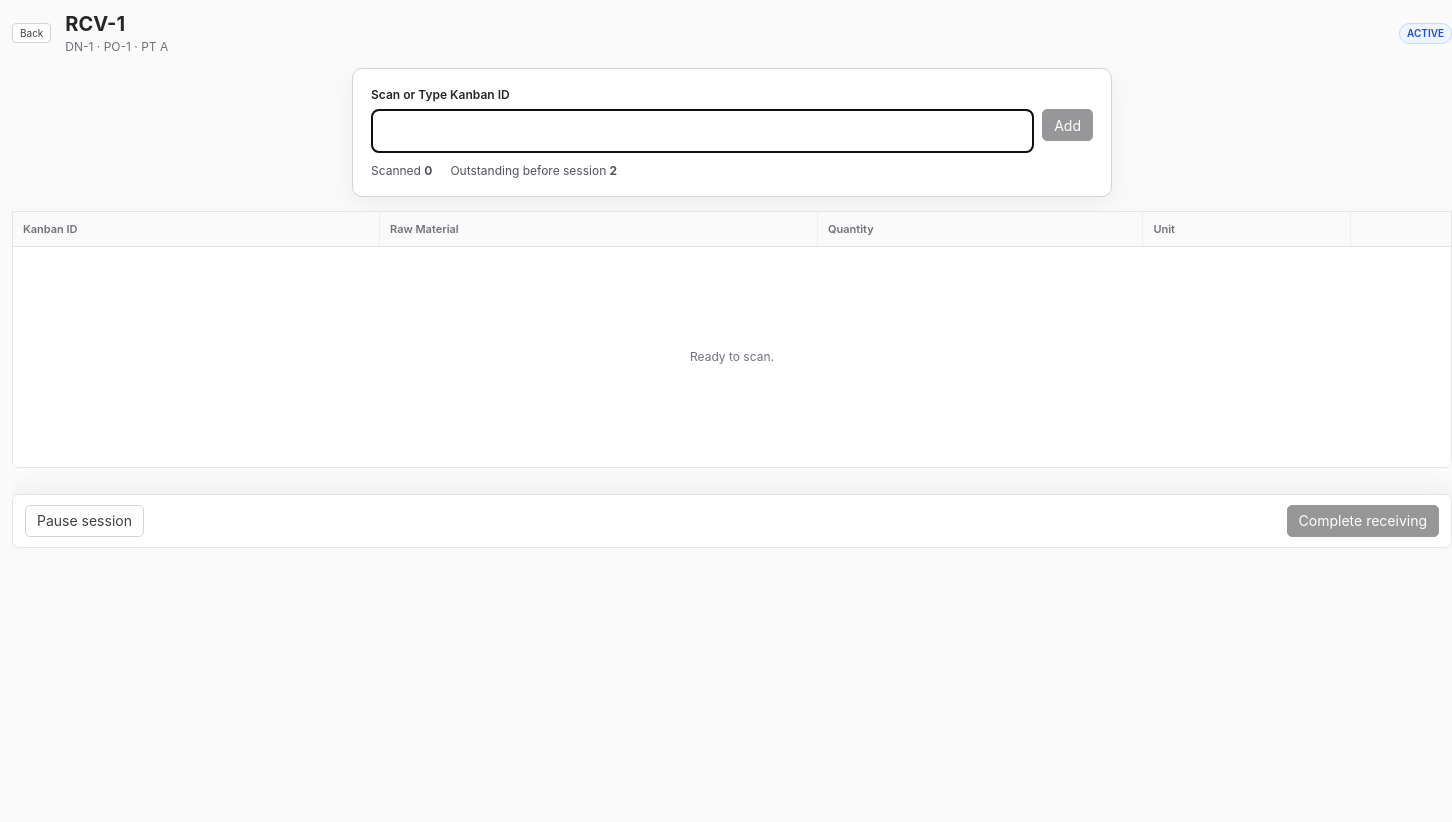
Test case: shows explicit scanner feedback for KANBAN_ALREADY_SCANNED and preserves the scanned value
Type "KB-1" into the field named "Scan or Type Kanban ID" at (703, 131), box [371,109,1034,153]
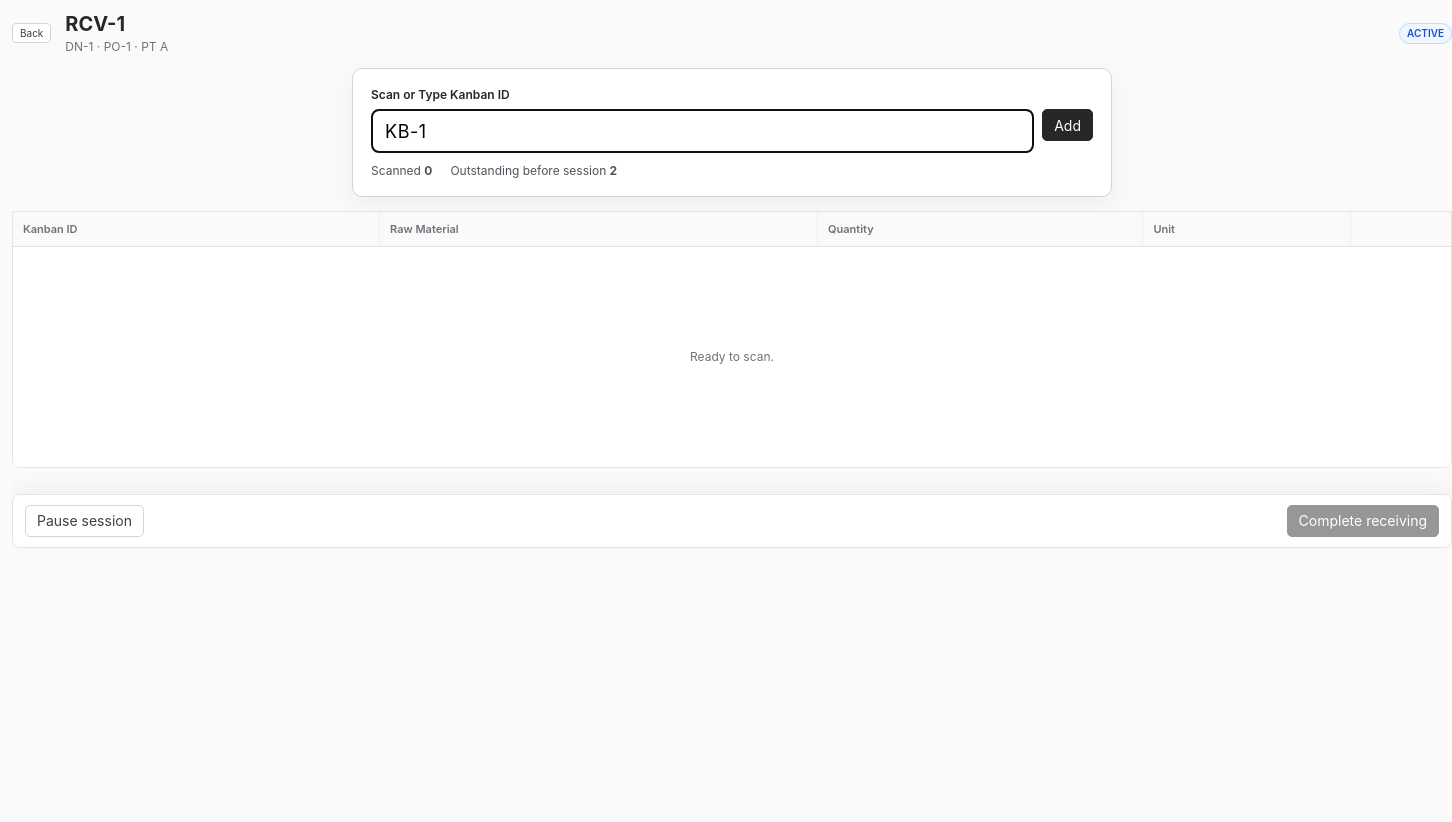
Submit the form named "Scan or Type Kanban ID", box [371,109,1093,153]
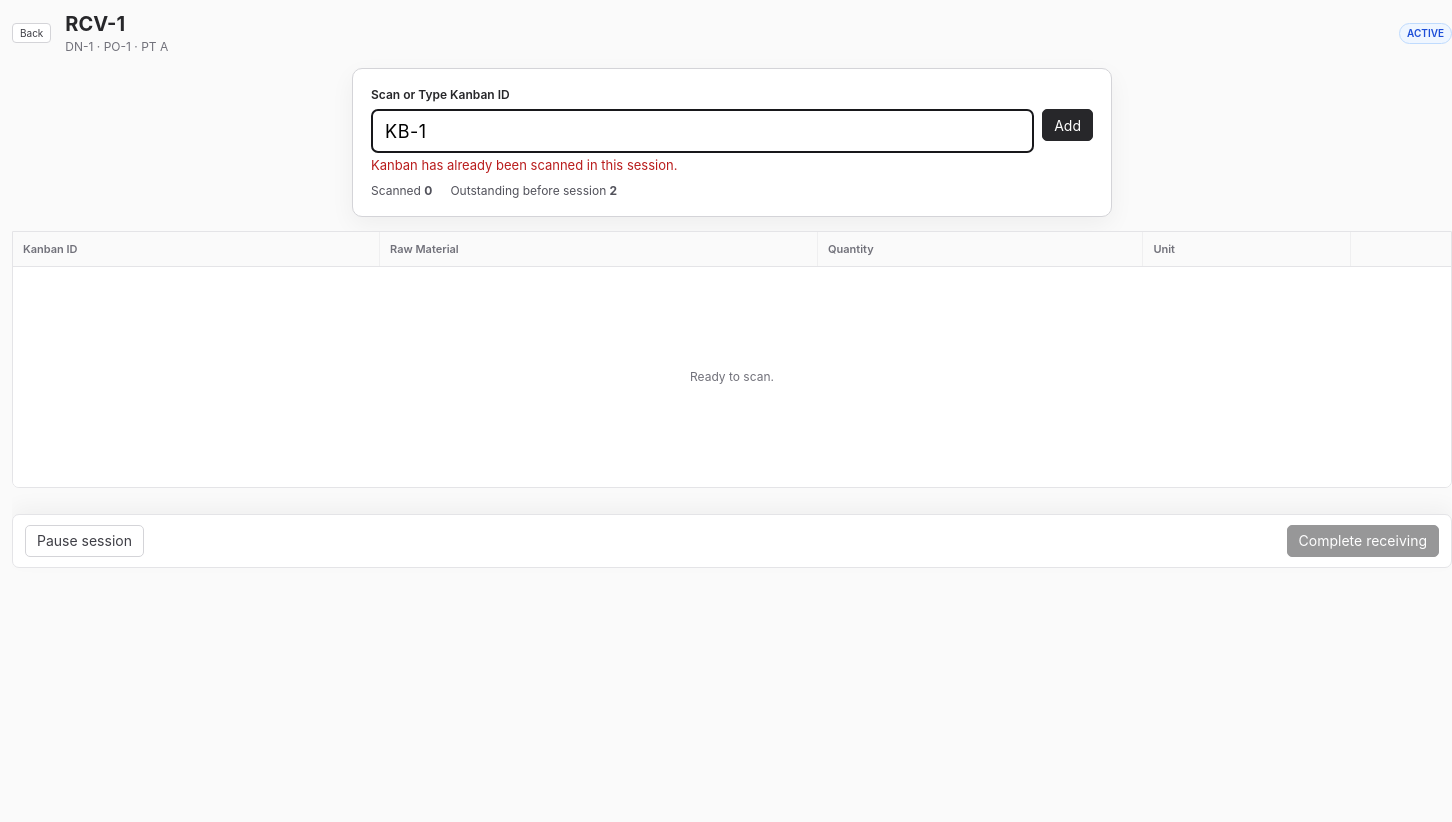
expect the message reads "Kanban has already been scanned in this session.": met, box [371,157,677,173]
